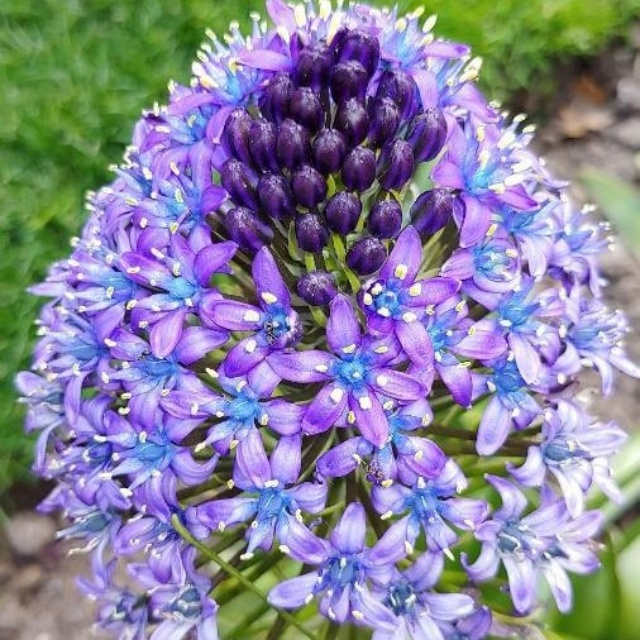obstacle: (22, 43, 620, 615)
